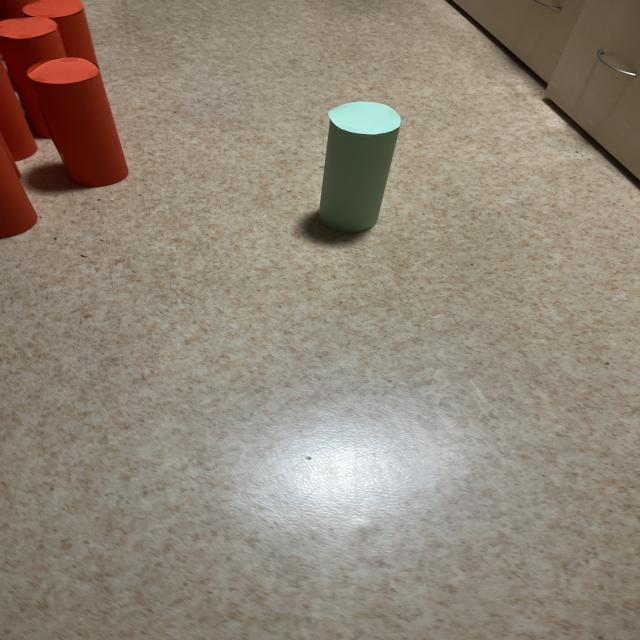meta: (319, 102, 401, 232)
